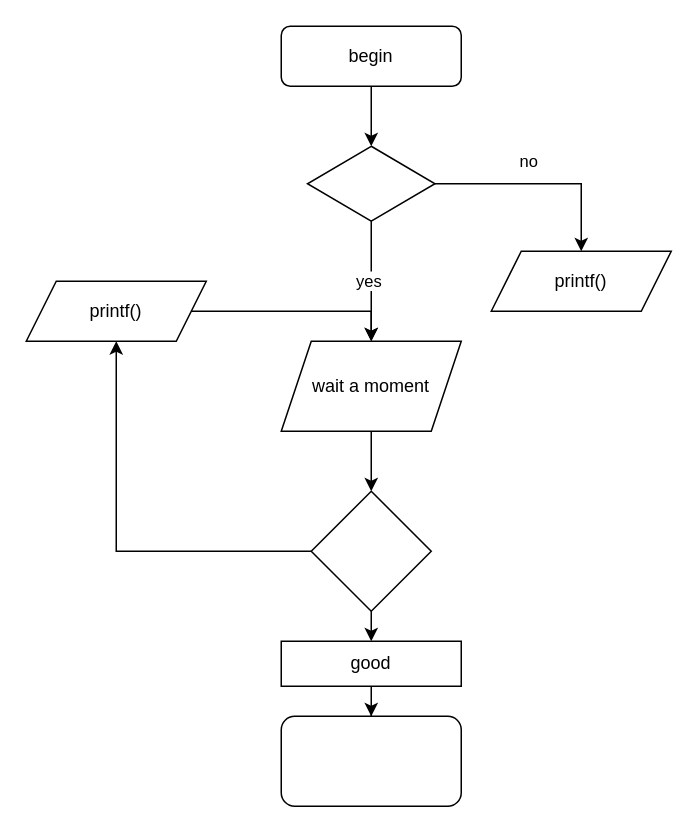
Some shapes in this 698 by 833 pixel diagram are drawn without their labels. Each missing label, with the box of its shape:
buy now?: (310, 490, 431, 611)
i have $10: (306, 145, 435, 221)
over: (280, 715, 461, 806)
